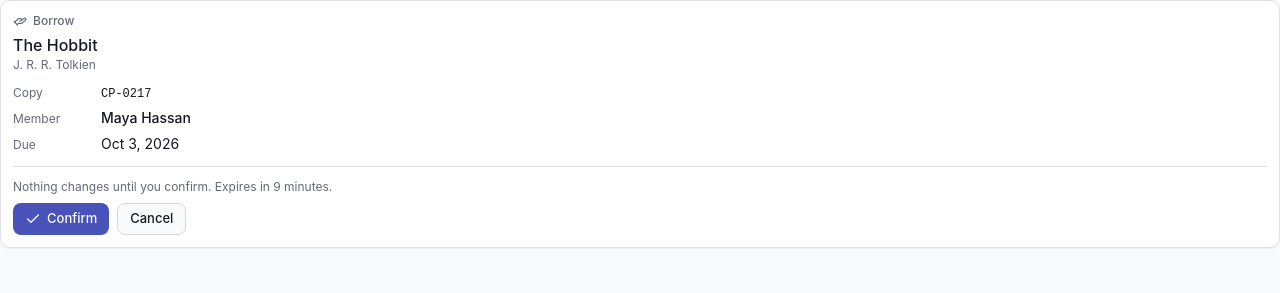
Test: ProposalCard › stays pending after a lost connection, so staff can try again
Step 1. Click the button "Confirm" → (61, 219), box [13, 203, 109, 235]
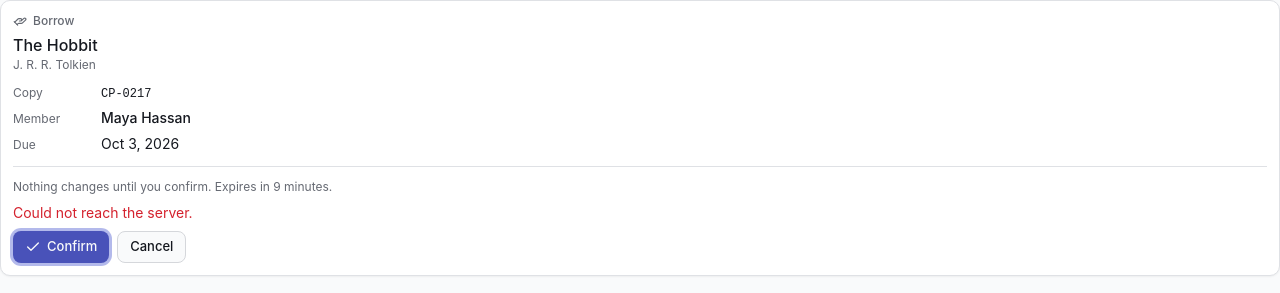
Expected: the button "Confirm" is enabled, [13, 231, 109, 263]
Result: the message reads "Could not reach the server." at [13, 204, 193, 221]
